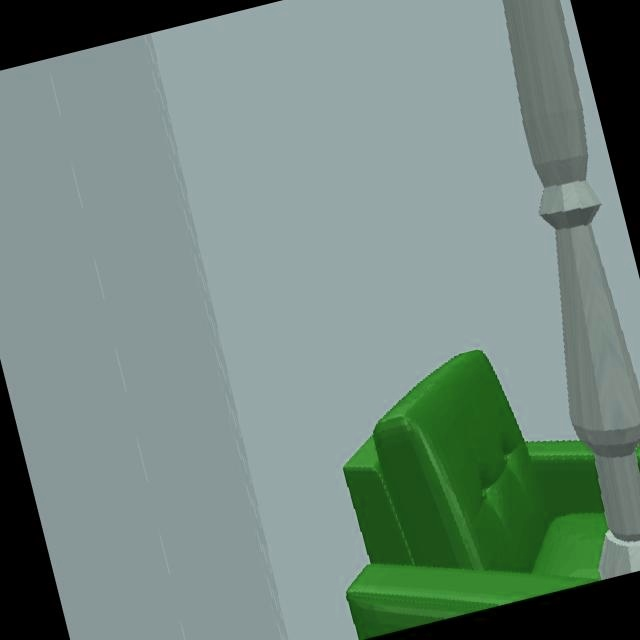sofa: (343, 350, 608, 639)
